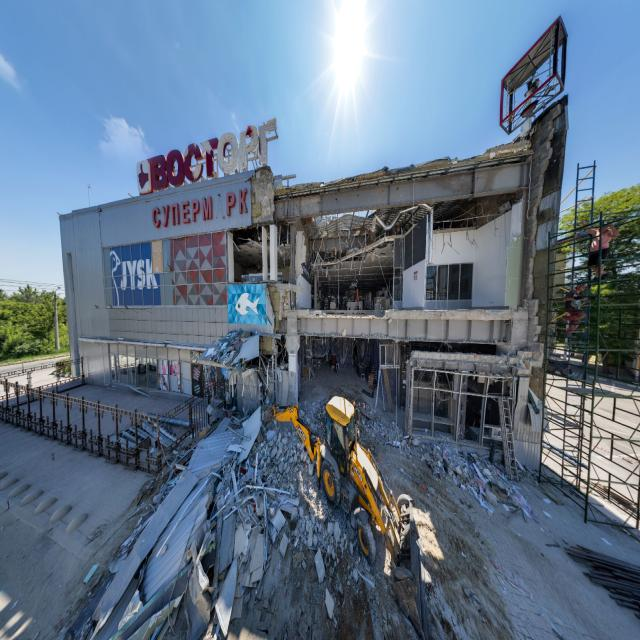broken_window: (108, 343, 261, 415), (152, 236, 162, 271)
building: (58, 142, 564, 468)
damage: (196, 142, 564, 468)
other: (0, 381, 640, 640), (541, 0, 640, 611)
